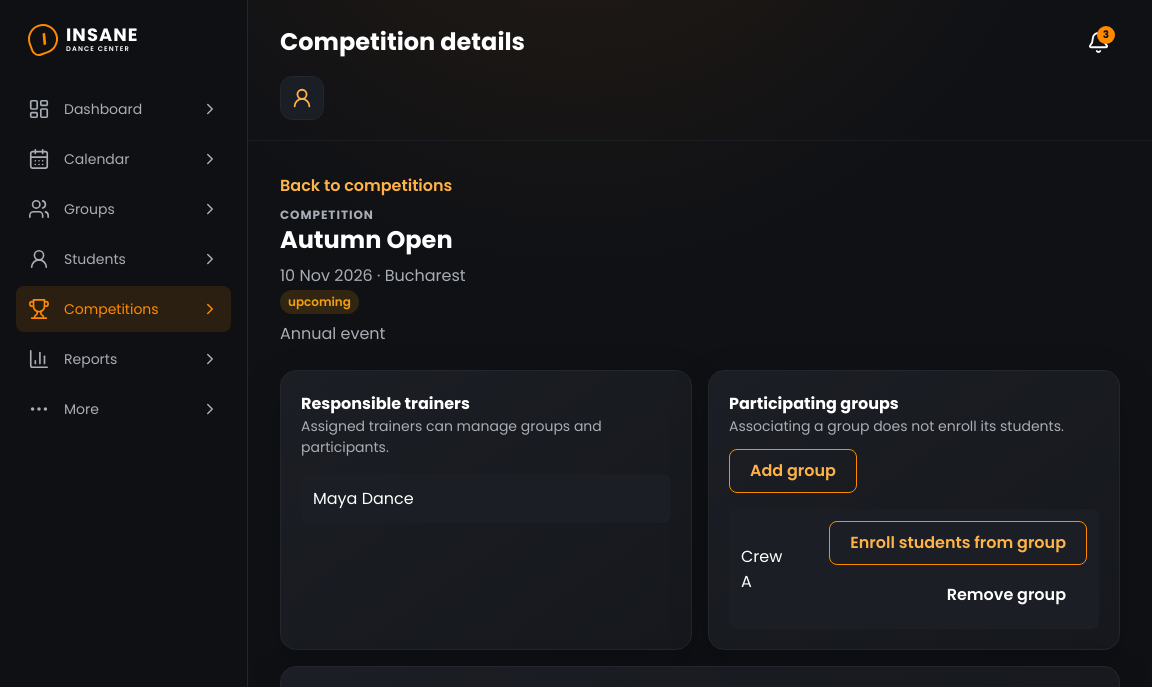
CompetitionDetailsPage › uses the trainer profile relationship to allow a responsible trainer to enroll a group
This screenshot has width=1152, height=687.
Click the button "Enroll students from group" at (958, 543), box [829,521,1087,565]
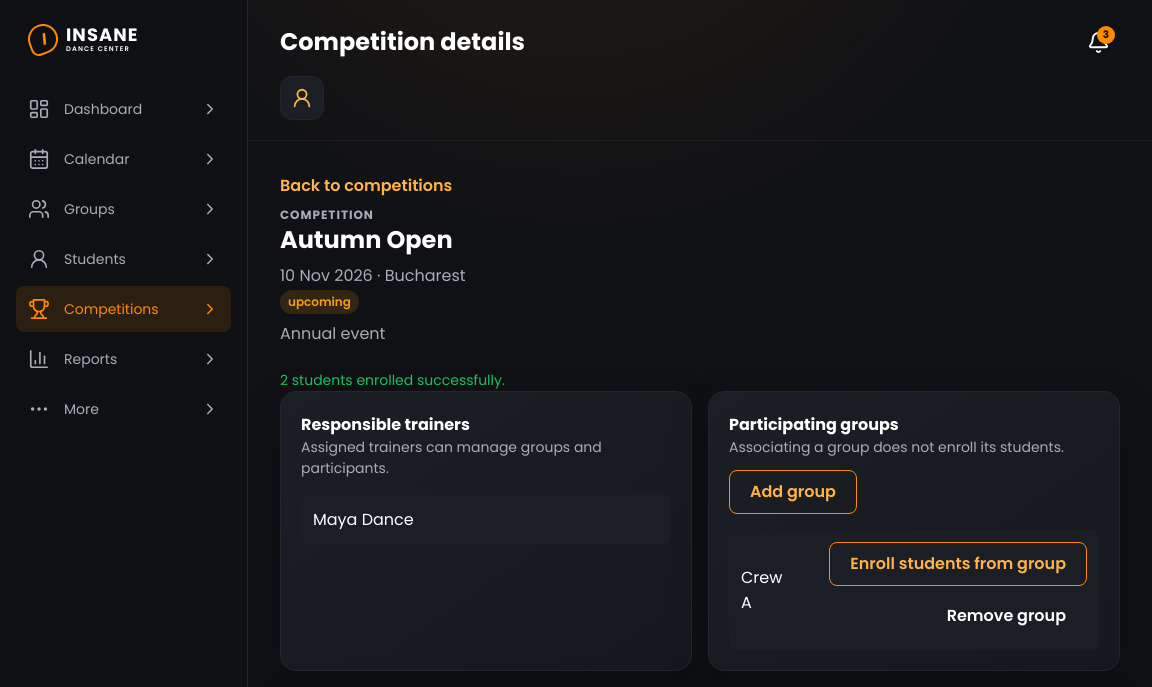
expect the message reads "2 students enrolled successfully.": met, box [280,370,505,390]
